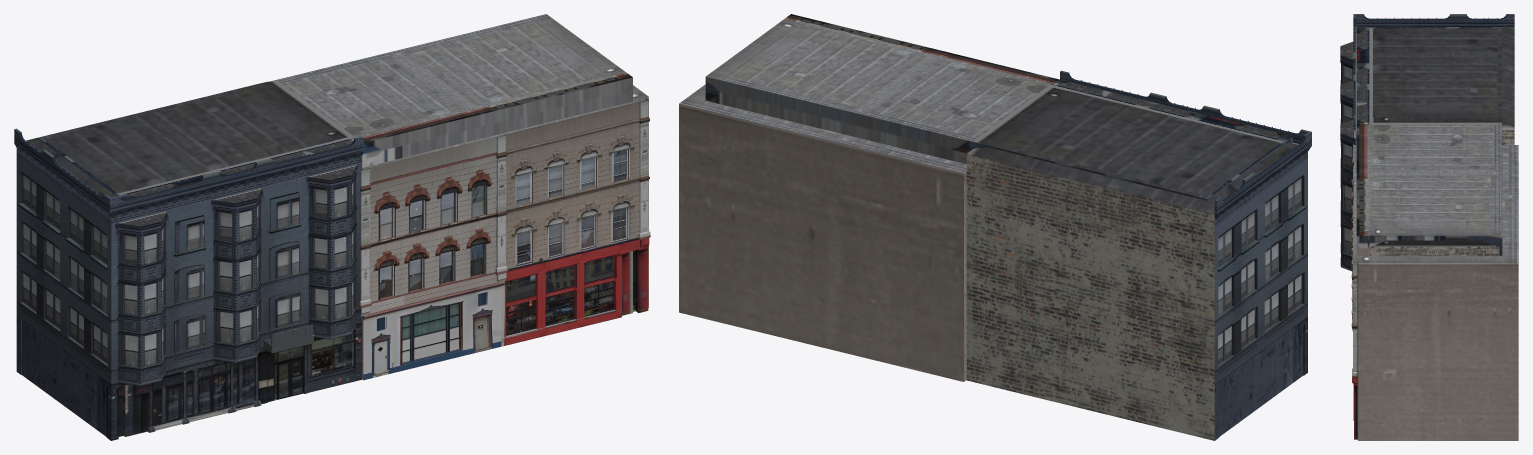
The model's file is m99_chicago_a.fbx.
3 renders of one model, left to right at view 1: azimuth 30°, elevation 25°; view 2: azimuth 150°, elevation 25°; view 3: azimuth 270°, elevation 25°, orthographic. The views are drawn at different scales.
Parts seen in each view (by area): view 1: m99_chicago_a_LOD0; view 2: m99_chicago_a_LOD0; view 3: m99_chicago_a_LOD0.
Boxes of the visible parts, box(x1,y1,x2,y2) form: m99_chicago_a_LOD0: box(14, 14, 650, 440); m99_chicago_a_LOD0: box(679, 14, 1311, 440); m99_chicago_a_LOD0: box(1340, 14, 1518, 440).
Size of what is drawn, in the model's own units: 38.21 by 16.39 by 12.97.
